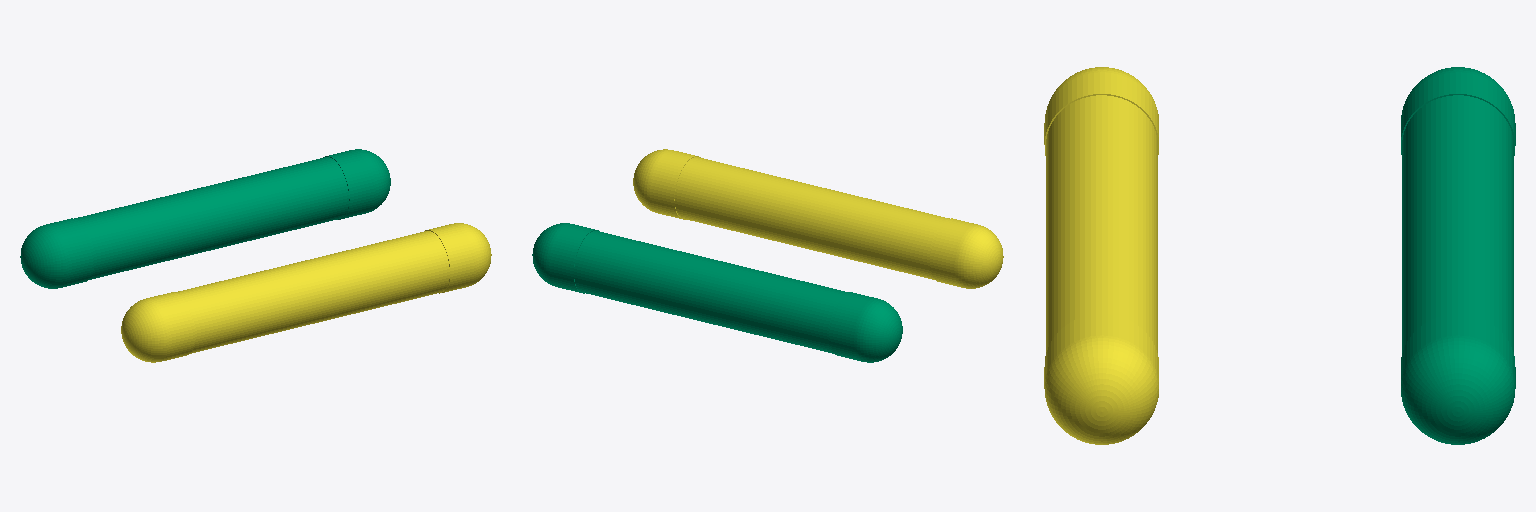
robot.urdf — asv_station_keeping_diag:
<?xml version='1.0' encoding='utf-8'?>
<robot name="asv_station_keeping_diag">
  <!-- Mesh-loading test only. Mounting poses are estimates, not Fusion occurrence transforms. 00_base has no visuals. -->
  <link name="base_footprint" />
  <link name="base_link">
    <inertial>
      <origin xyz="0 0 0" rpy="0 0 0" />
      <mass value="0.1" />
      <inertia ixx="0.0001" ixy="0" ixz="0" iyy="0.0001" iyz="0" izz="0.0001" />
    </inertial>
  </link>
  <link name="hull_left">
    <inertial>
      <origin xyz="0.0017543 -0.0000047 -0.0000010" rpy="0 0 0" />
      <mass value="8.7513272838" />
      <inertia ixx="0.0159438897" ixy="0" ixz="0" iyy="0.7485544942" iyz="0" izz="0.7485544942" />
    </inertial>
    <visual name="hull_left_visual">
      <origin xyz="-0.971730 0.357754 -1.641617" rpy="0 0 -1.57079632679" />
      <geometry>
        <mesh filename="package://asv_station_keeping/meshes/hull.stl" scale="0.001 0.001 0.001" />
      </geometry>
    </visual>
    <collision name="hull_left_collision">
      <geometry>
        <box size="0.724805 0.112973 0.112998" />
      </geometry>
    </collision>
  </link>
  <link name="hull_right">
    <inertial>
      <origin xyz="0.0017543 -0.0000047 -0.0000010" rpy="0 0 0" />
      <mass value="8.7513272838" />
      <inertia ixx="0.0159438897" ixy="0" ixz="0" iyy="0.7485544942" iyz="0" izz="0.7485544942" />
    </inertial>
    <visual name="hull_right_visual">
      <origin xyz="-0.971730 0.357754 -1.641617" rpy="0 0 -1.57079632679" />
      <geometry>
        <mesh filename="package://asv_station_keeping/meshes/hull.stl" scale="0.001 0.001 0.001" />
      </geometry>
    </visual>
    <collision name="hull_right_collision">
      <geometry>
        <box size="0.724805 0.112973 0.112998" />
      </geometry>
    </collision>
  </link>
  <joint name="base_footprint_to_base_link" type="fixed">
    <parent link="base_footprint" />
    <child link="base_link" />
    <origin xyz="0 0 0" rpy="0 0 0" />
  </joint>
  <joint name="base_to_hull_left" type="fixed">
    <parent link="base_link" />
    <child link="hull_left" />
    <origin xyz="0 0.175 0.055" rpy="0 0 0" />
  </joint>
  <joint name="base_to_hull_right" type="fixed">
    <parent link="base_link" />
    <child link="hull_right" />
    <origin xyz="0 -0.175 0.055" rpy="0 0 0" />
  </joint>
</robot>

--- What the picture shows (computed from the rendered views, not written in the file) ---
The picture shows the robot from 3 angles, left to right: view 1: azimuth 30°, elevation 25°; view 2: azimuth 150°, elevation 25°; view 3: azimuth 270°, elevation 25°; orthographic projection.
Model asv_station_keeping_diag with 4 links and 3 joints (3 fixed), rooted at base_footprint, posed every joint at zero.
Visible links, largest first — view 1: hull_left, hull_right; view 2: hull_left, hull_right; view 3: hull_left, hull_right.
Link boxes in pixels (bbox=[...]): hull_left: bbox=[20, 149, 390, 288]; hull_right: bbox=[121, 223, 491, 362]; hull_left: bbox=[532, 223, 902, 362]; hull_right: bbox=[633, 149, 1003, 288]; hull_left: bbox=[1401, 67, 1515, 444]; hull_right: bbox=[1044, 67, 1158, 444].
Size in the robot's own frame: 0.7248 by 0.463 by 0.113 metres.
2 mesh visuals loaded from 1 distinct referenced files (1 binary STL).
